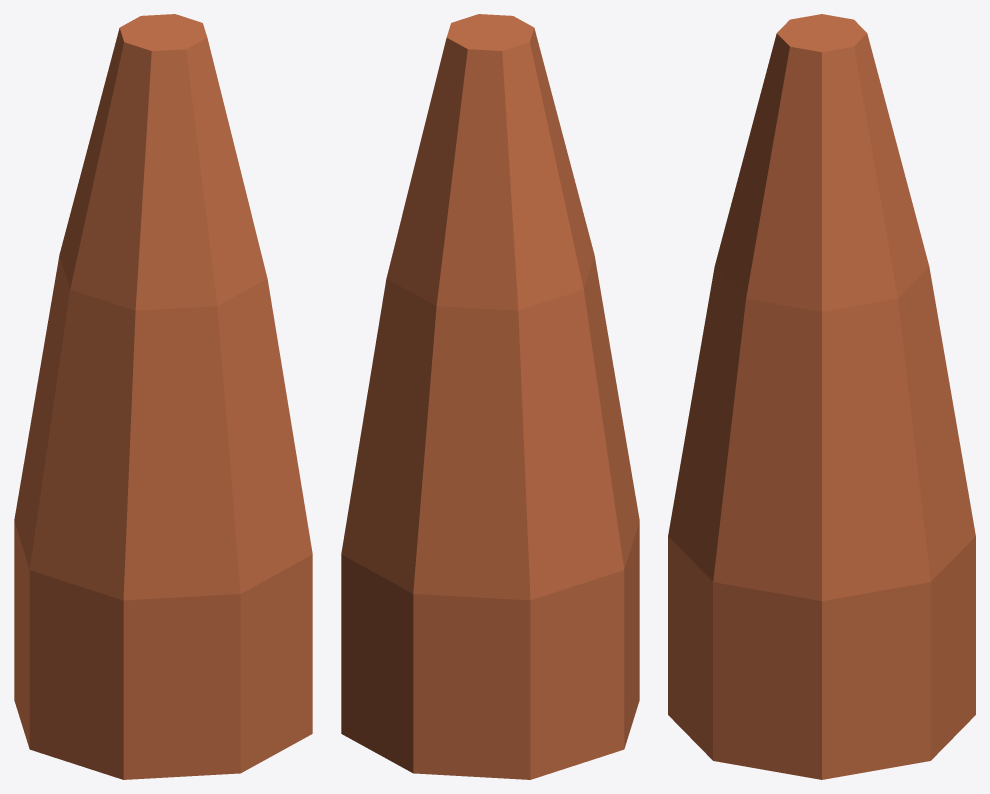
File: BLT-556.fbx
The picture shows the model from 3 angles, left to right: view 1: azimuth 30°, elevation 25°; view 2: azimuth 150°, elevation 25°; view 3: azimuth 270°, elevation 25°; orthographic projection.
Visible parts, largest first — view 1: Cylinder.009; view 2: Cylinder.009; view 3: Cylinder.009.
Part boxes in pixels (x1=…): Cylinder.009: x1=14, y1=14, x2=312, y2=779; Cylinder.009: x1=341, y1=14, x2=639, y2=779; Cylinder.009: x1=668, y1=14, x2=975, y2=779.
Bounding box in the file's own units: 19.09 × 46.65 × 19.09.
